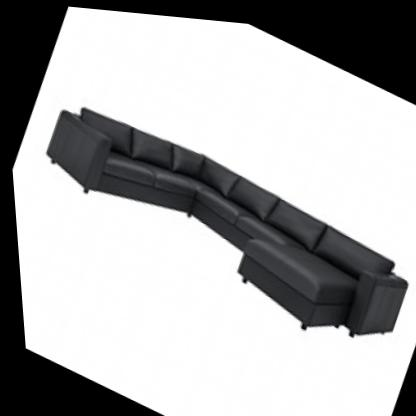Sofa: (10, 69, 416, 370)
